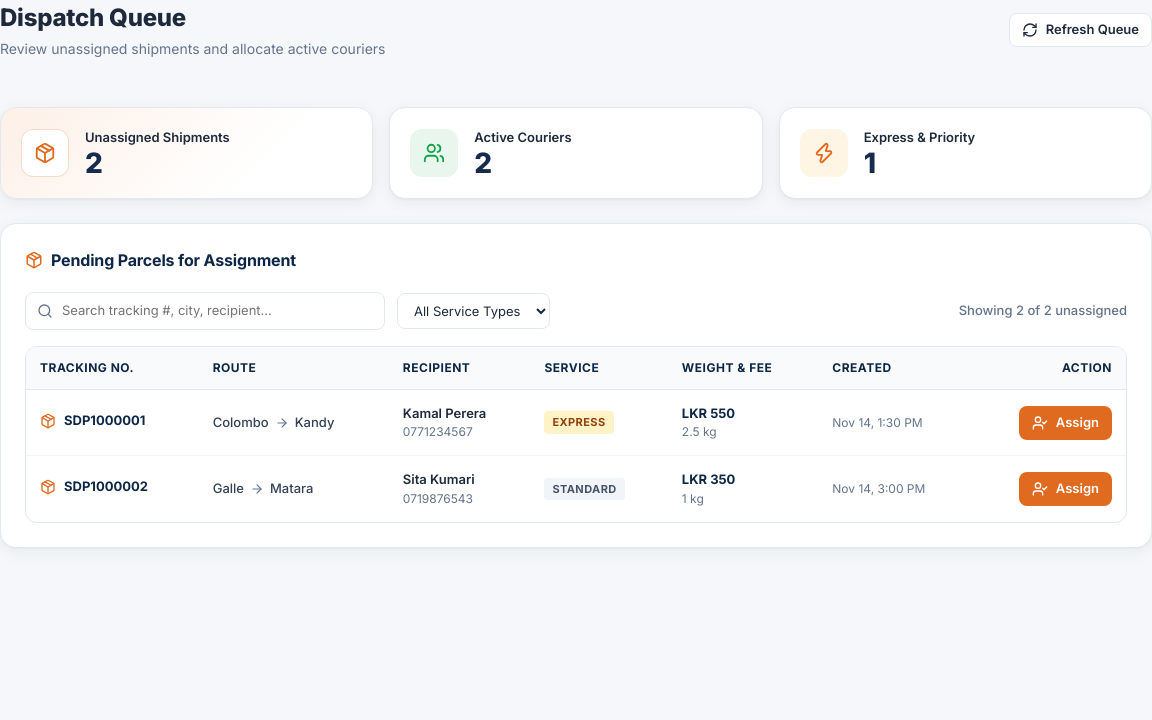
Test: Dispatch Management Page & Assignment Modal - Component Tests › 5. Opens Assign Courier modal when Assign button is clicked
The width and height of the screenshot is (1152, 720).
Expected: the text "SDP1000001" is shown, [40,411,145,430]
// Click Assign for the first parcel
Click the button "Assign" in the row of "SDP1000001": (1065, 422) [1019,406,1112,440]
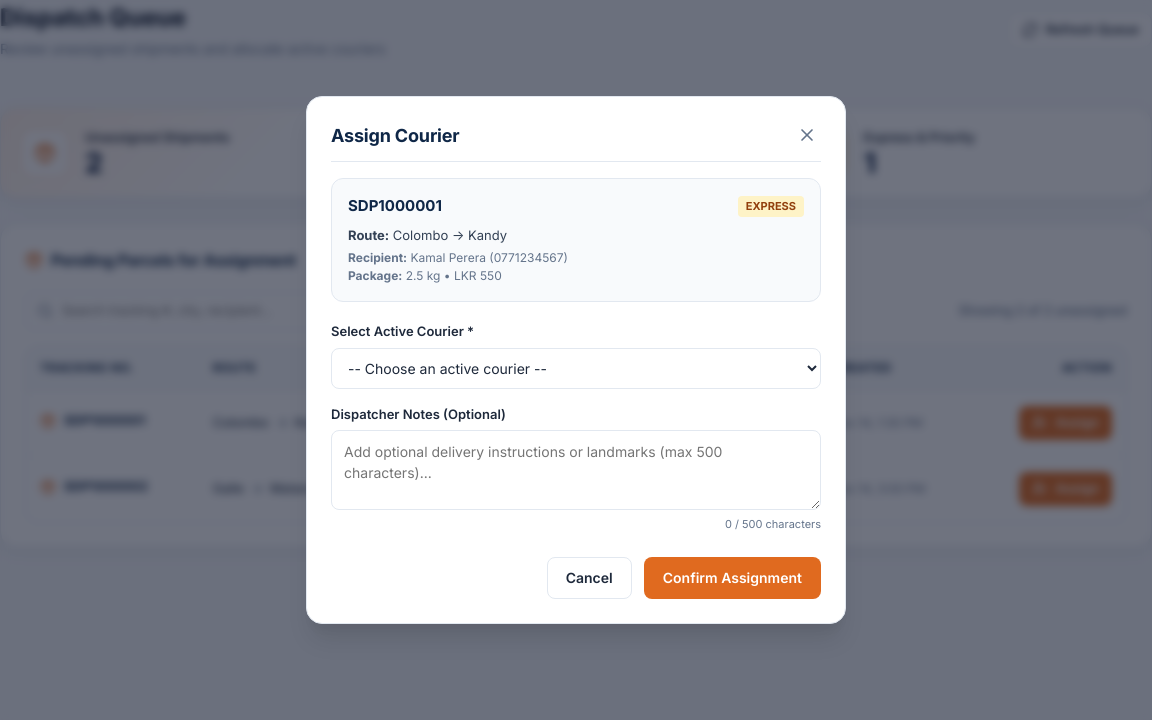
Expected: the dialog is shown
Expected: the heading "Assign Courier" is shown, [331,122,460,149]
Expected: the text "Route:" is shown, [348,227,389,243]
